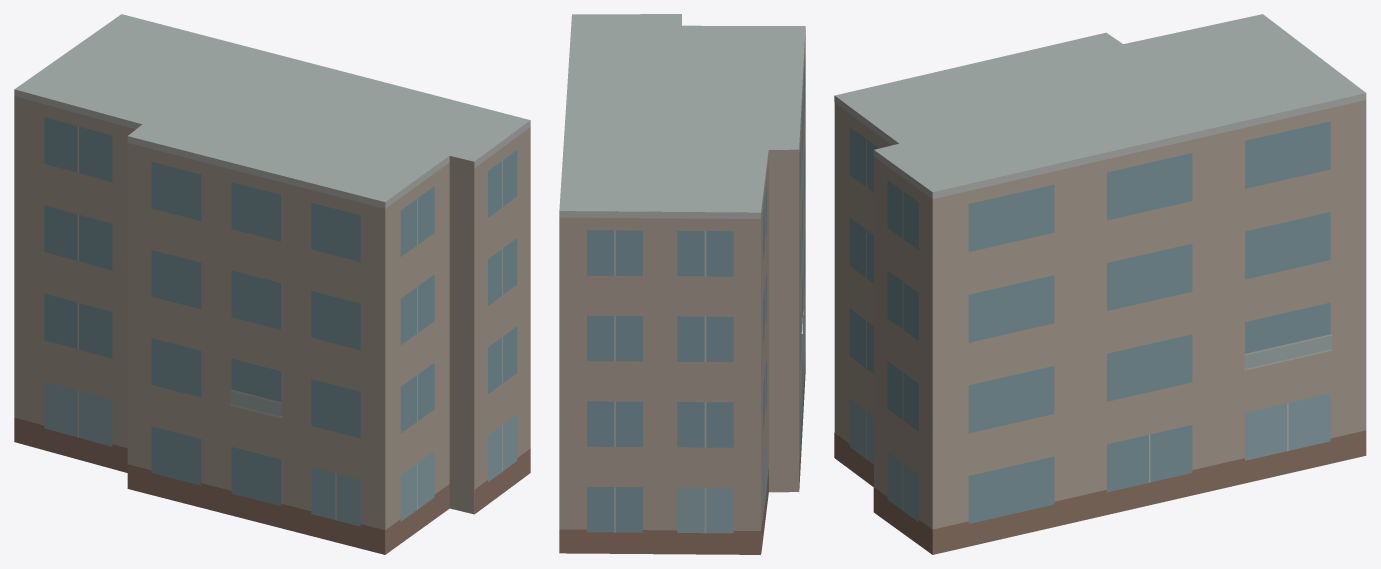
The model's file is survey-upis-32722803.glb.
3 views of the same model, side by side, from view 1: azimuth 30°, elevation 25°; view 2: azimuth 150°, elevation 25°; view 3: azimuth 270°, elevation 25° (orthographic). The views are drawn at different scales.
Visible parts, largest first — view 1: survey-upis-32722803.tmp; view 2: survey-upis-32722803.tmp; view 3: survey-upis-32722803.tmp.
Boxes of the visible parts, x1,y1,x2,y2 form: survey-upis-32722803.tmp: [14, 14, 530, 554]; survey-upis-32722803.tmp: [559, 14, 805, 554]; survey-upis-32722803.tmp: [834, 14, 1366, 554].
Size of the model in its own units: 13.51 by 12.8 by 17.02.
